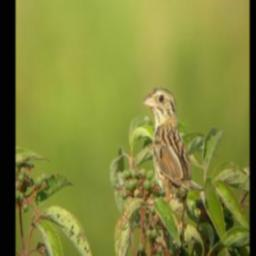Sparrow: (142, 84, 206, 234)
